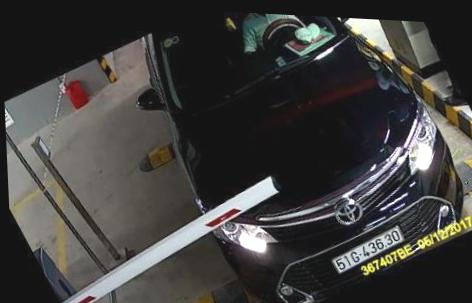License_Plate: (330, 222, 402, 278)
